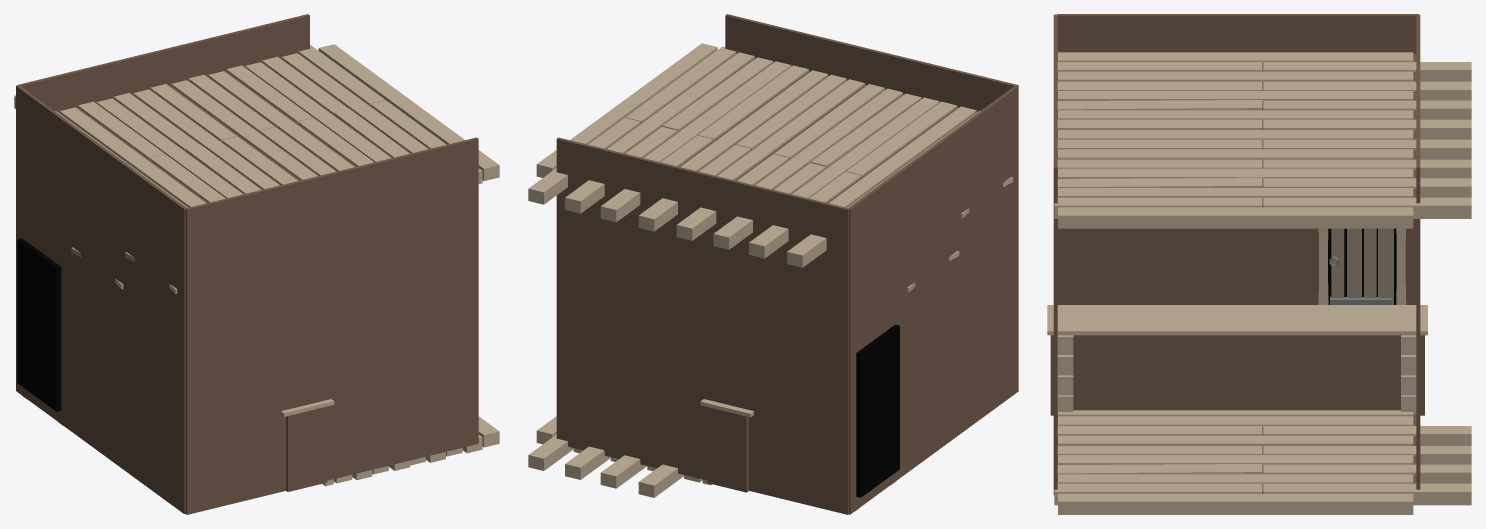
File: Shop.fbx
3 renders of one model, left to right at view 1: azimuth 30°, elevation 25°; view 2: azimuth 150°, elevation 25°; view 3: azimuth 270°, elevation 25°, orthographic. The views are drawn at different scales.
Parts seen in each view (by area): view 1: Cube.034, Cube.033, Cube.035, Cube.064, Cube.024, Cube.002, Cube.046, Cube.042, Cube.056, Cube.050, Cube.045, Cube.005 (+16 smaller); view 2: Cube.035, Cube.033, Cube.034, Cube.064, Cube.024, Cube.002, Cube.046, Cube.050, Cube.056, Cube.045, Cube.042, Cube.005 (+21 smaller); view 3: Cube.033, Cube.024, Cube.032, Cube.002, Cube.022, Cube.042, Cube.050, Cube.013, Cube.006, Cube.047, Cube.010, Cube.056 (+40 smaller).
Boxes of the visible parts, x1,y1,x2,y2 form: Cube.034: [185, 137, 478, 514]; Cube.033: [16, 85, 187, 513]; Cube.035: [16, 14, 309, 112]; Cube.064: [17, 238, 61, 411]; Cube.024: [286, 406, 327, 491]; Cube.002: [318, 44, 499, 181]; Cube.046: [58, 53, 428, 247]; Cube.042: [208, 71, 354, 171]; Cube.056: [133, 89, 279, 189]; Cube.050: [60, 107, 205, 207]; Cube.045: [171, 80, 317, 180]; Cube.005: [281, 53, 427, 153]; Cube.035: [556, 137, 848, 514]; Cube.033: [847, 85, 1018, 514]; Cube.034: [725, 14, 1018, 112]; Cube.064: [856, 324, 899, 497]; Cube.024: [707, 407, 748, 492]; Cube.002: [536, 43, 717, 177]; Cube.046: [606, 53, 976, 248]; Cube.050: [829, 106, 976, 207]; Cube.056: [755, 88, 902, 189]; Cube.045: [717, 79, 864, 180]; Cube.042: [680, 70, 828, 171]; Cube.005: [607, 52, 754, 153]; Cube.033: [1057, 14, 1418, 304]; Cube.024: [1050, 335, 1424, 415]; Cube.032: [1047, 305, 1427, 335]; Cube.002: [1058, 207, 1413, 228]; Cube.022: [1058, 493, 1413, 514]; Cube.042: [1058, 149, 1413, 159]; Cube.050: [1058, 71, 1413, 81]; Cube.013: [1058, 435, 1413, 445]; Cube.006: [1058, 168, 1413, 178]; Cube.047: [1058, 52, 1413, 62]; Cube.010: [1058, 416, 1413, 426]; Cube.056: [1058, 110, 1413, 120].
Size of the model in its own units: 1628 by 1518 by 1736.
